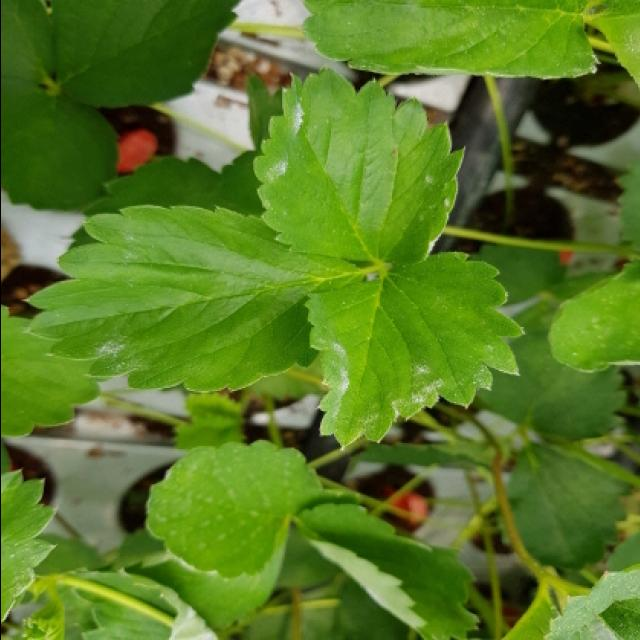Powdery Mildew Leaf: (22, 205, 376, 394), (301, 251, 524, 451), (251, 68, 464, 266), (2, 468, 58, 623)
